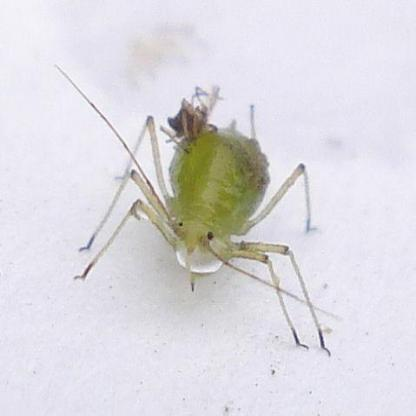aphid: (53, 59, 336, 359)
